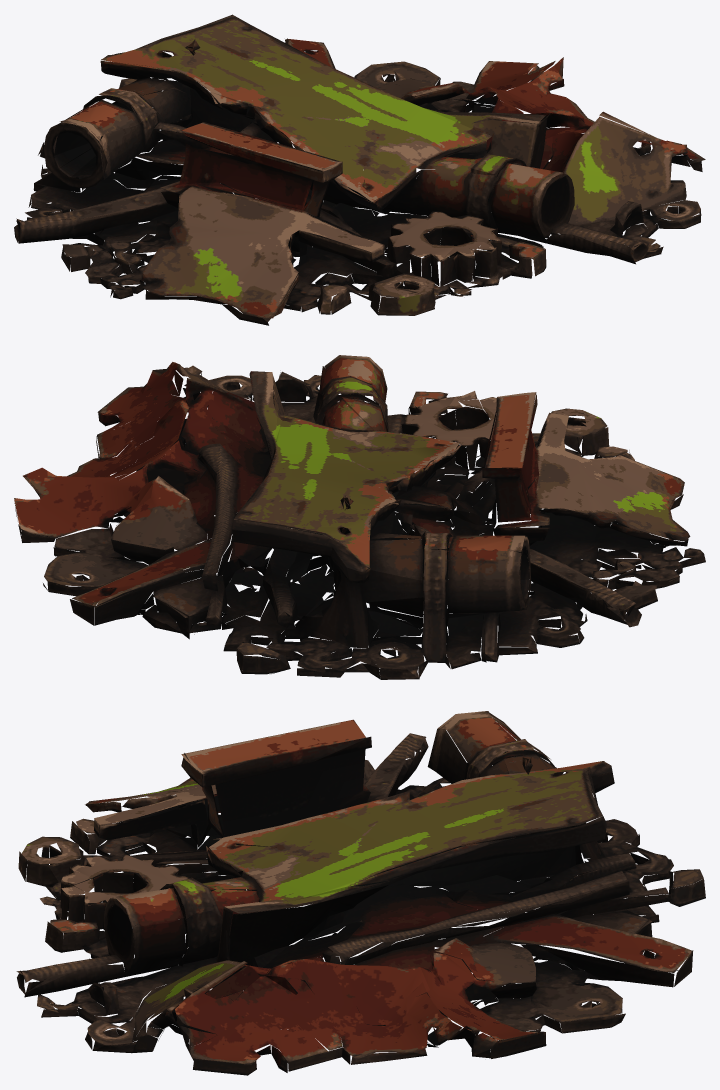
The model's file is scrap_pile.glb.
The picture shows the model from 3 angles, top to bottom: view 1: azimuth 30°, elevation 25°; view 2: azimuth 150°, elevation 25°; view 3: azimuth 270°, elevation 25°; orthographic projection. The views are drawn at different scales.
Parts seen in each view (by area): view 1: scrap_pile; view 2: scrap_pile; view 3: scrap_pile.
Part boxes in pixels (x1,y1,x2,y2): scrap_pile: (14,14,705,325); scrap_pile: (14,355,705,679); scrap_pile: (16,711,705,1075).
Bounding box in the file's own units: 1 × 0.2008 × 0.9164.
1 material, 1 textured.
